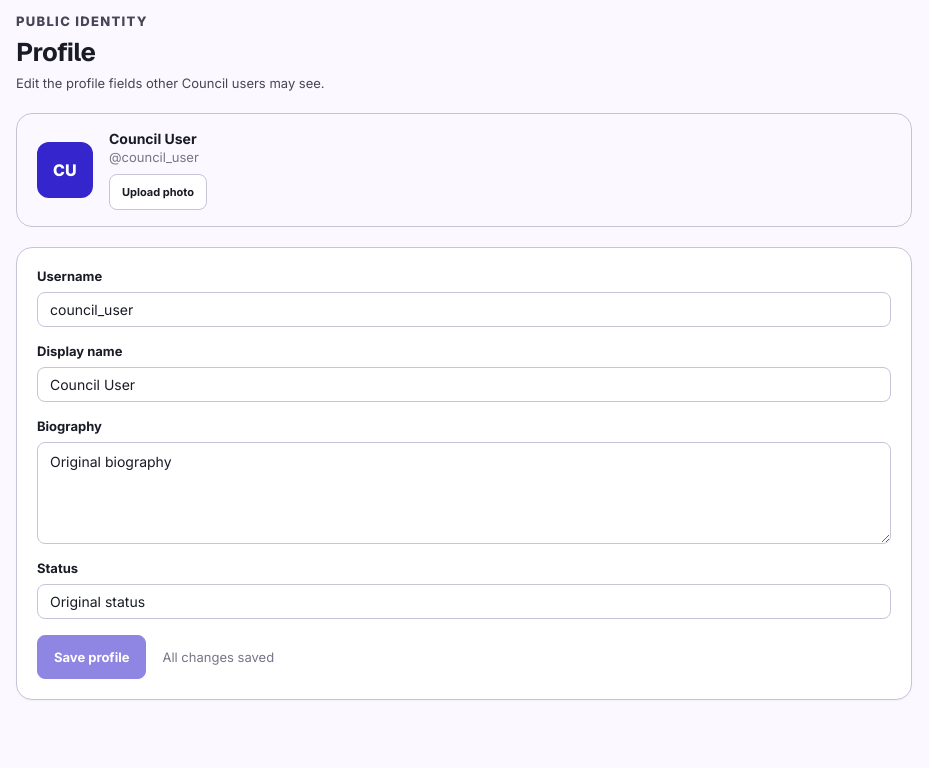
Test: onboarding and account settings pages › keeps edited profile data when an update fails
Replace the text in the text box labelled "Biography" with "Unsaved biography" at (464, 494), box [37,442,891,544]
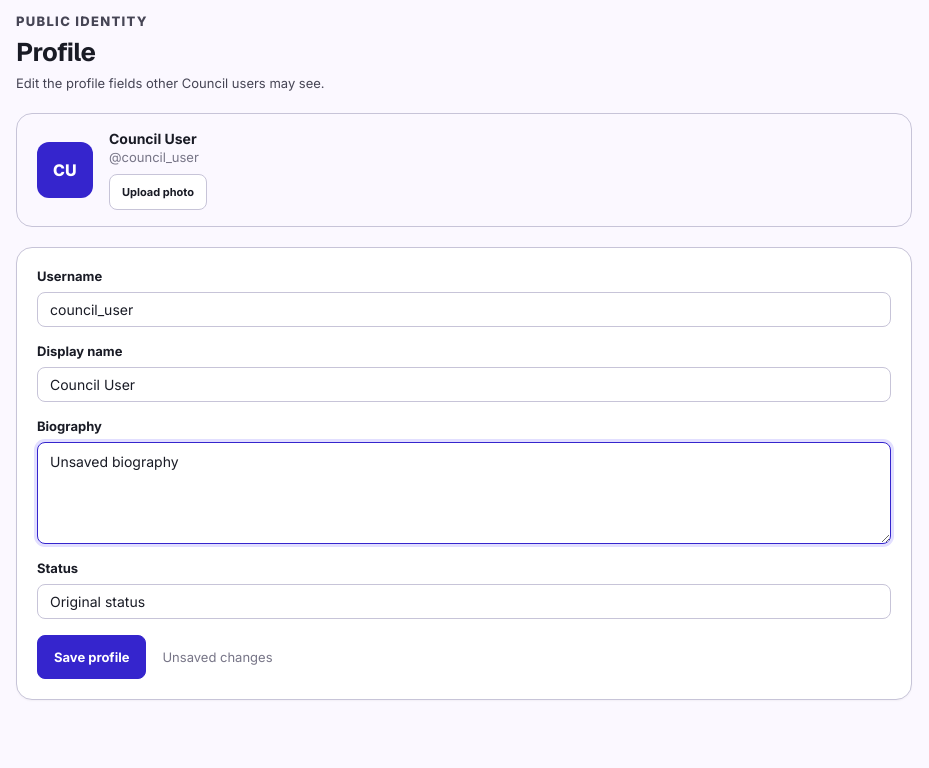
Click the button "Save profile".
click(92, 658)  # box [37,636,146,680]
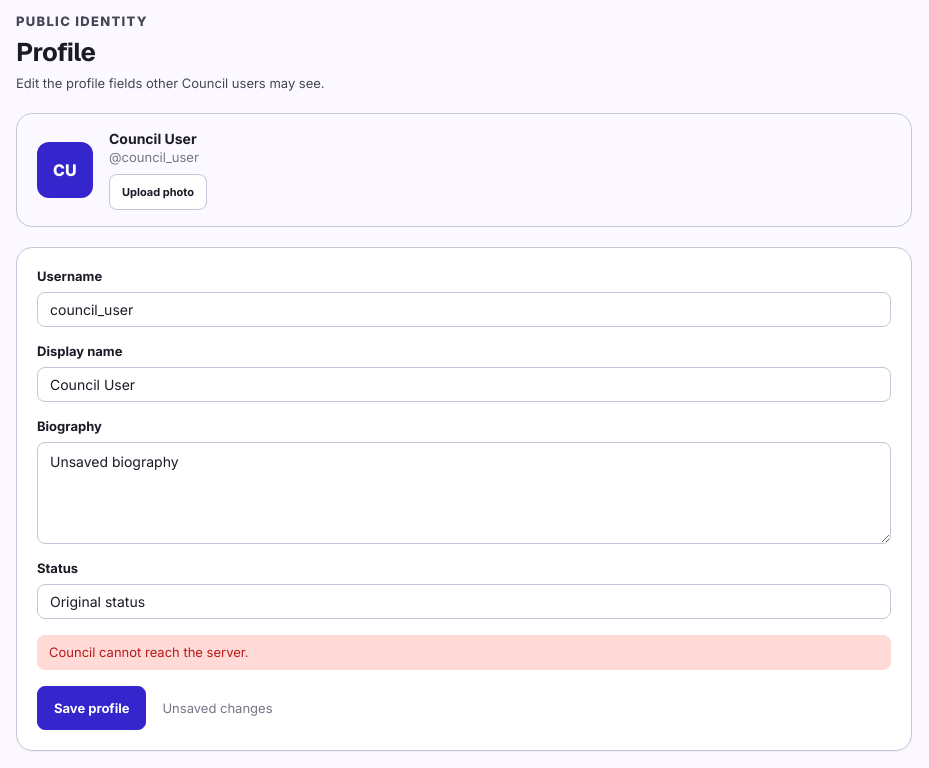
expect the text "Council cannot reach the server." is shown: met, box [37,636,891,670]
